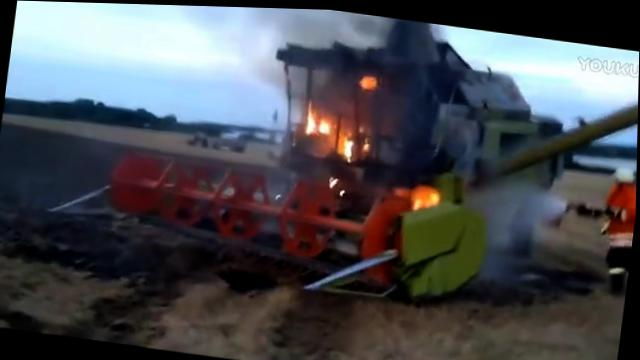fire: (408, 180, 442, 209), (303, 97, 320, 134), (340, 130, 356, 160), (318, 113, 336, 133), (359, 69, 379, 87), (327, 172, 339, 185)
